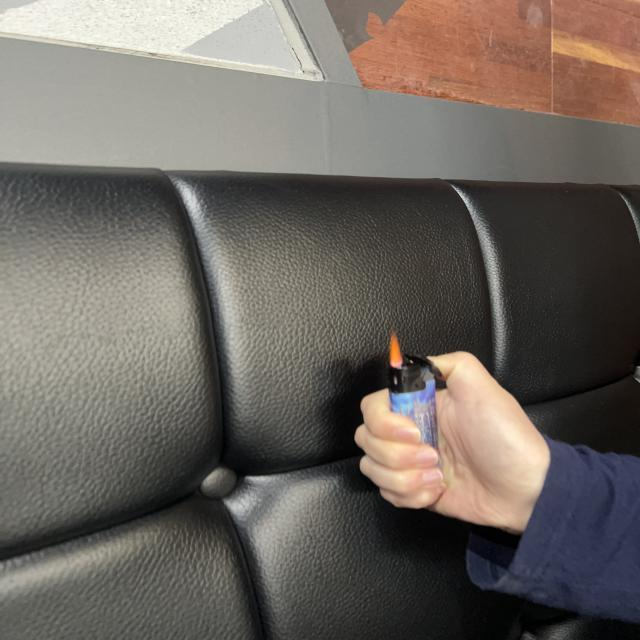fire: (390, 331, 402, 369)
